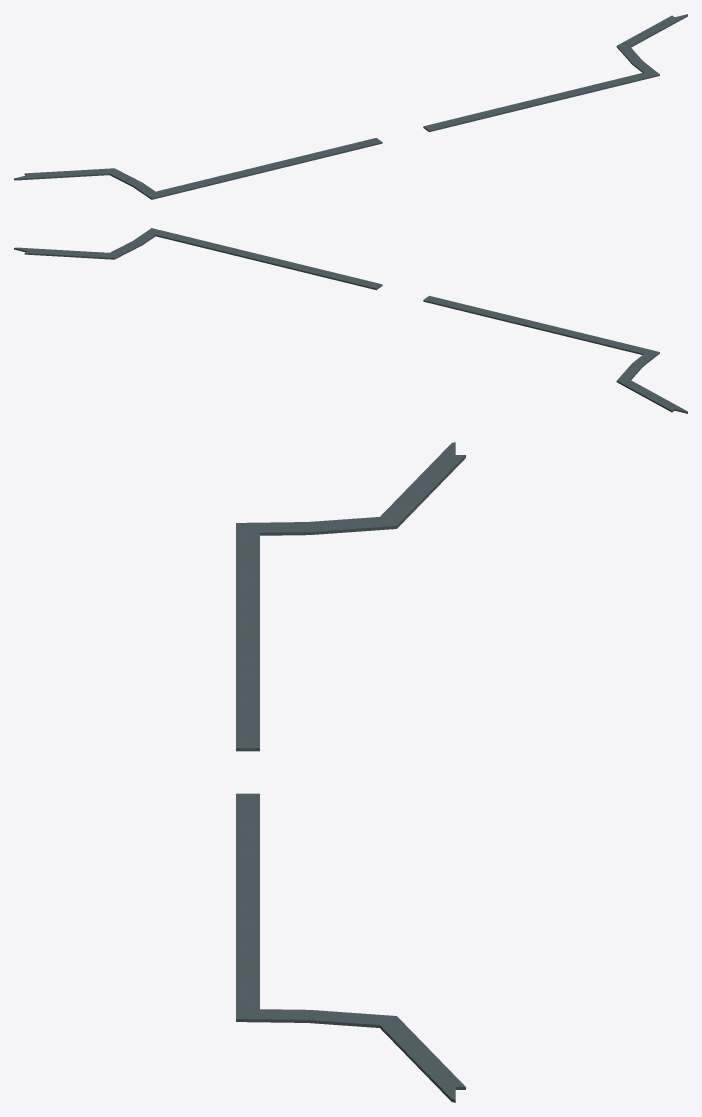
File: G7_Completion_R003_Roof_08.glb
3 views of the same model, one above another, from view 1: azimuth 30°, elevation 25°; view 2: azimuth 150°, elevation 25°; view 3: azimuth 270°, elevation 25° (orthographic). The views are drawn at different scales.
Parts seen in each view (by area): view 1: Roof_08_G7C3_roof_solid_roof; view 2: Roof_08_G7C3_roof_solid_roof; view 3: Roof_08_G7C3_roof_solid_roof.
Part boxes in pixels (<box>): Roof_08_G7C3_roof_solid_roof: <box>14,14,687,199</box>; Roof_08_G7C3_roof_solid_roof: <box>14,228,687,413</box>; Roof_08_G7C3_roof_solid_roof: <box>236,442,465,1102</box>.
Size of the model in its own units: 130 by 0.28 by 19.18.
Materials: 1 (1 with a texture image).
